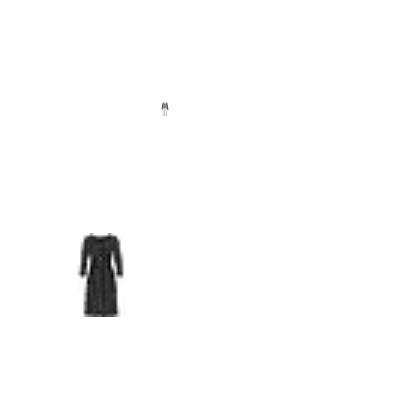Dress: (60, 233, 144, 317), (158, 102, 172, 116)
